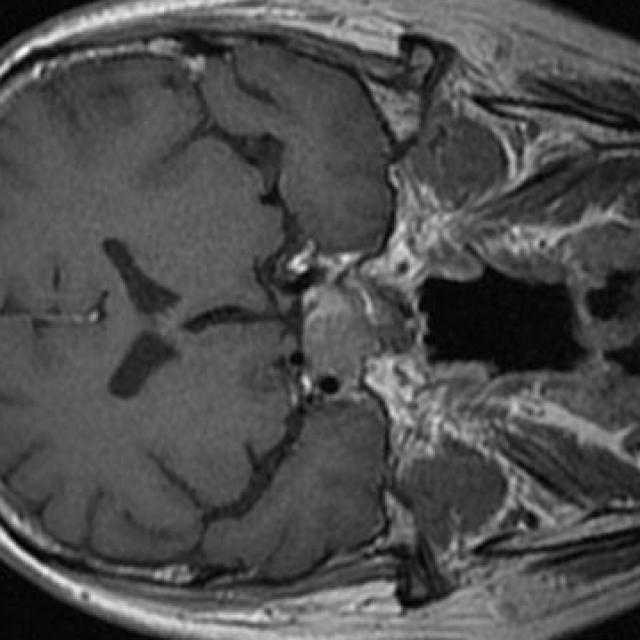pituitary: (305, 271, 417, 382)
